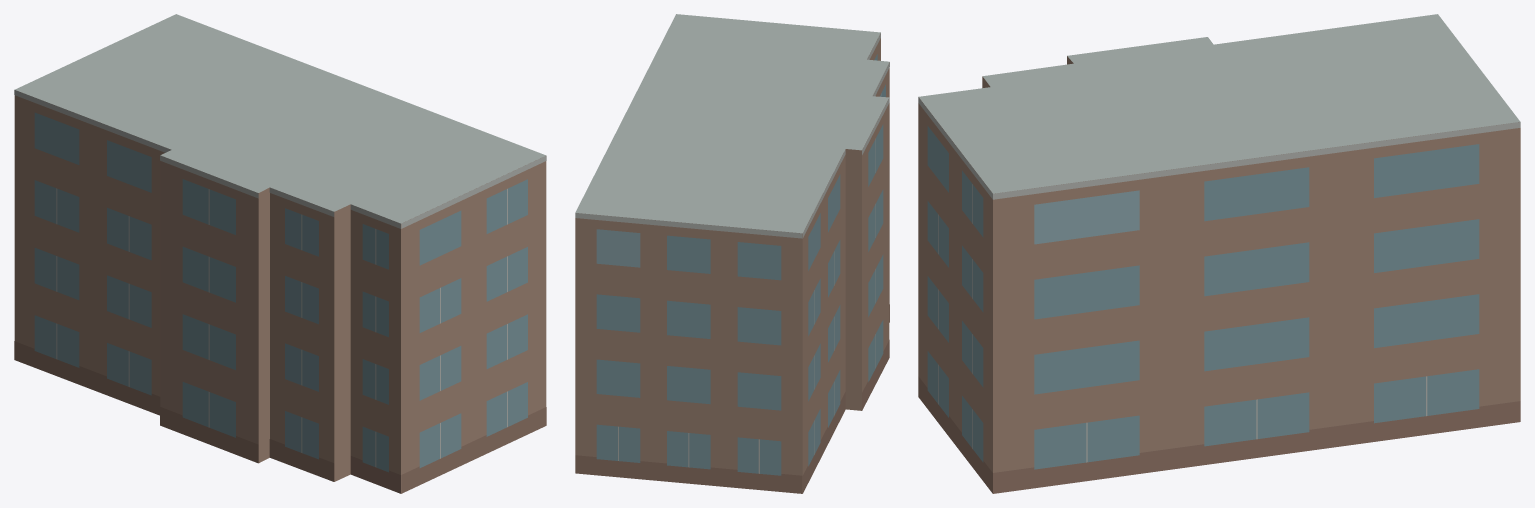
The model's file is survey-upis-32562897.glb.
The picture shows the model from 3 angles, left to right: view 1: azimuth 30°, elevation 25°; view 2: azimuth 150°, elevation 25°; view 3: azimuth 270°, elevation 25°; orthographic projection. The views are drawn at different scales.
Parts seen in each view (by area): view 1: survey-upis-32562897.tmp; view 2: survey-upis-32562897.tmp; view 3: survey-upis-32562897.tmp.
Part boxes in pixels (x1,y1,x2,y2): survey-upis-32562897.tmp: (14, 14, 546, 493); survey-upis-32562897.tmp: (575, 14, 889, 493); survey-upis-32562897.tmp: (918, 14, 1520, 493).
Size of the model in its own units: 15.68 by 12.2 by 22.19.
